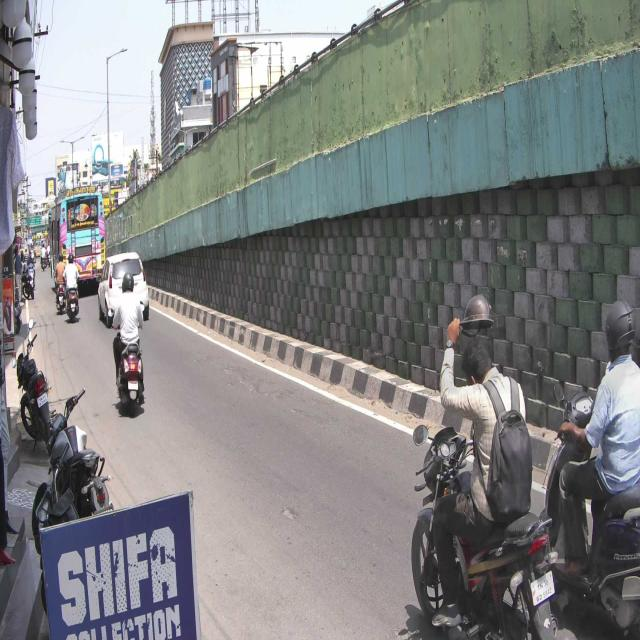single_rider: (412, 295, 556, 640)
